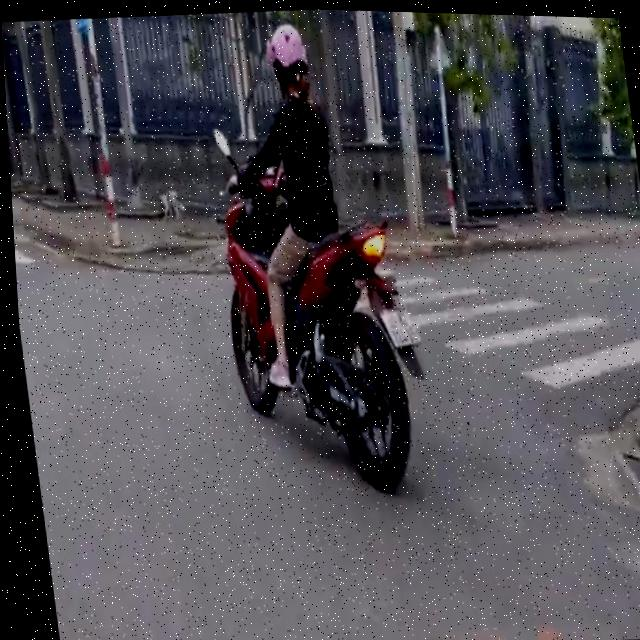motorcycle: (193, 103, 455, 521)
plate: (374, 297, 426, 357)
